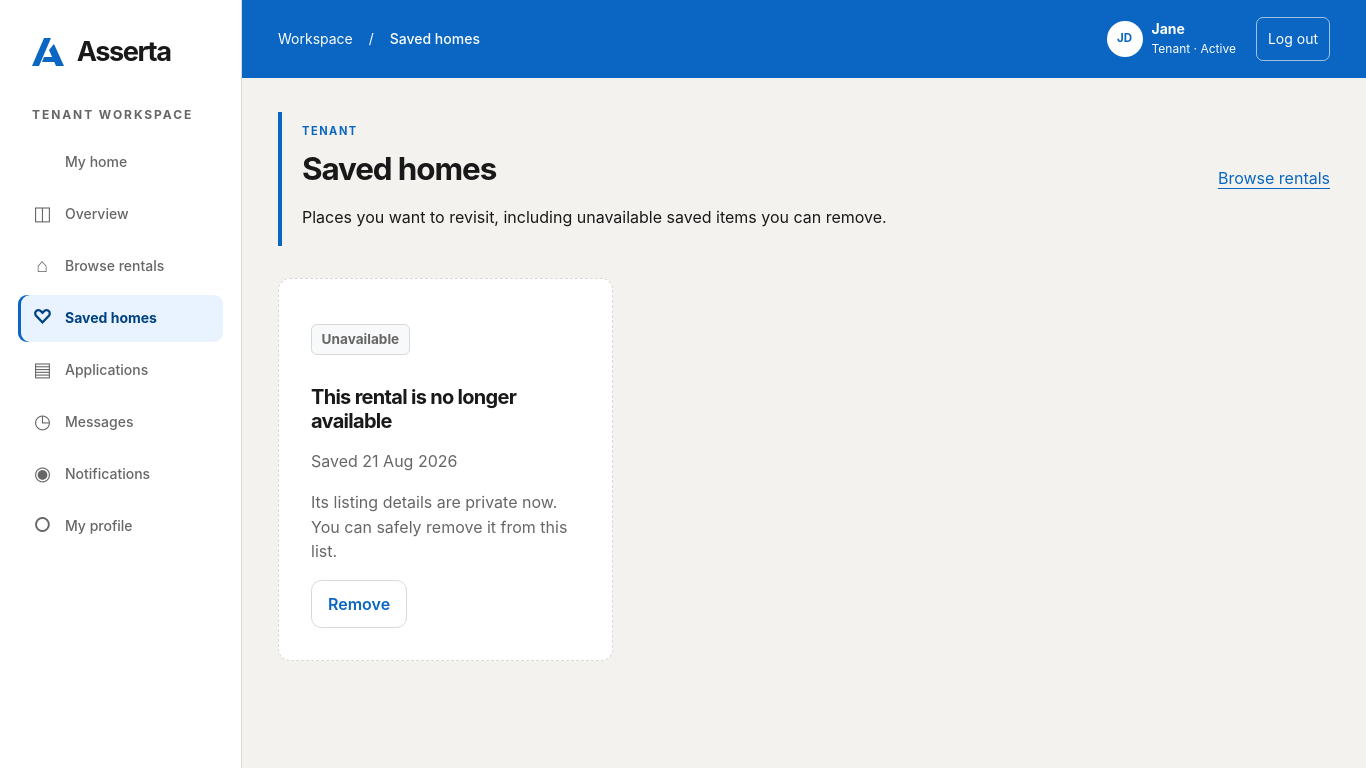
Test: saved homes route and list › removes an unavailable save after backend confirmation
Expected: the heading "This rental is no longer available" is shown, [311,385,516,433]
Click the button "Remove" at (359, 604), box [311,580,407,628]
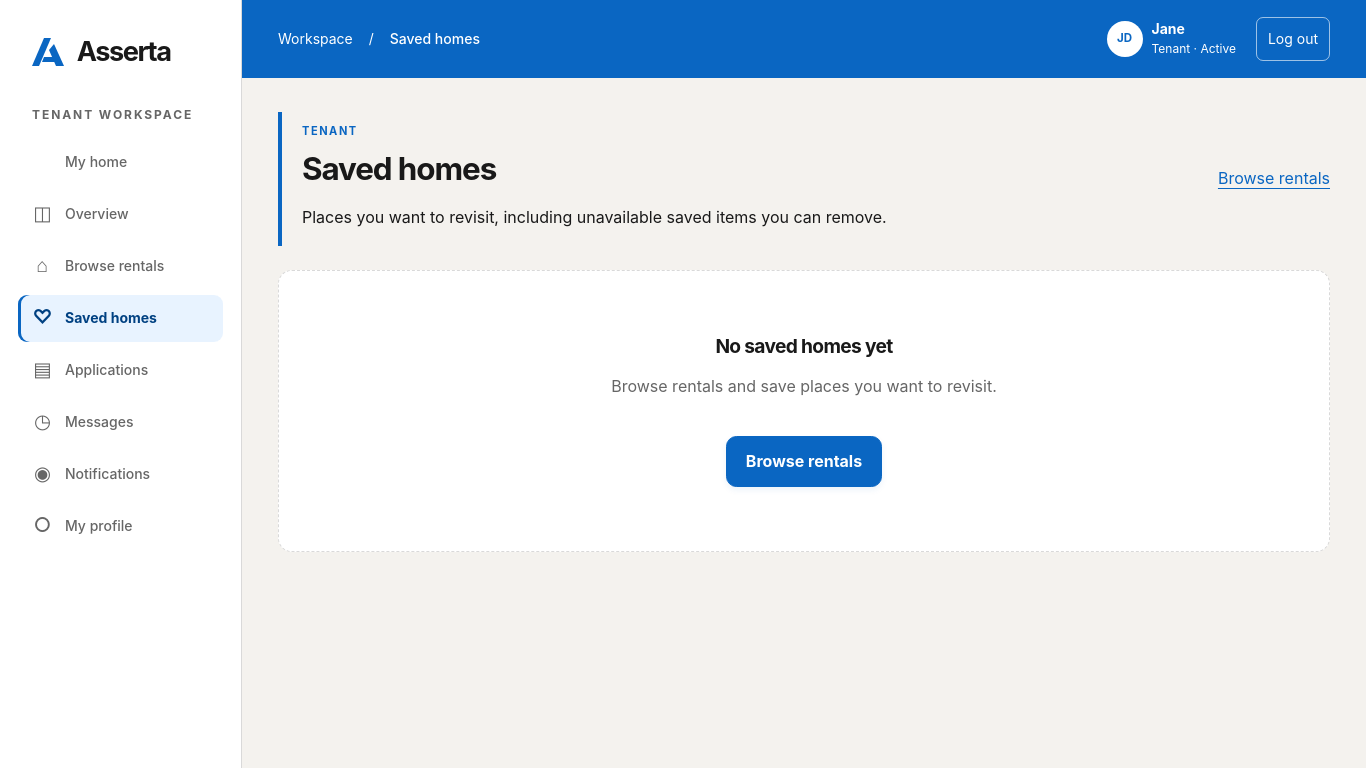
Now the heading "No saved homes yet" is shown, box [715,334,893,358]
